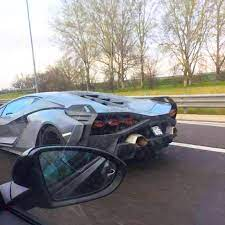Lamborghini: (6, 91, 180, 148)
